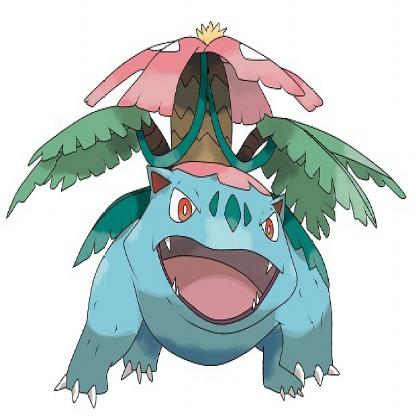Venusaur: (1, 6, 412, 416)
